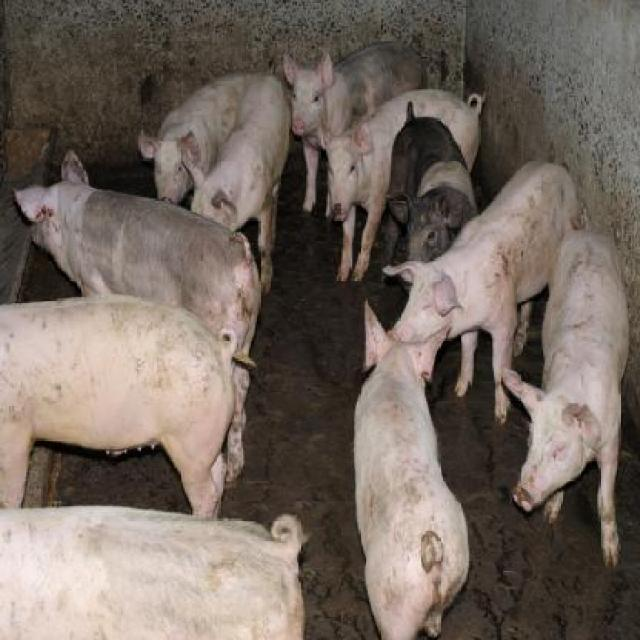pig: (0, 36, 632, 638)
